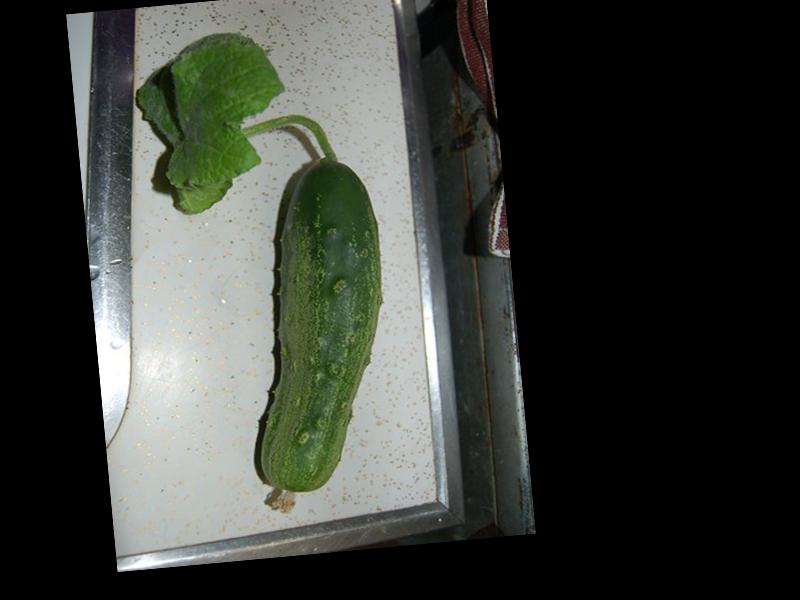Cucumber: (230, 152, 404, 515)
